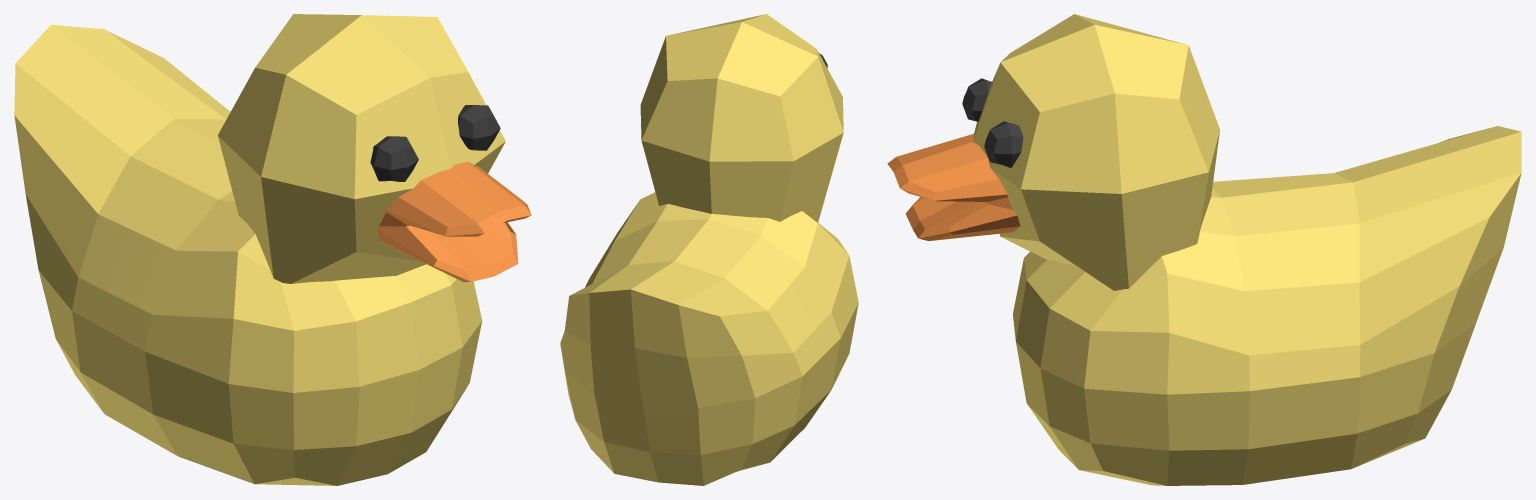
The model's file is Duck_231109.glb.
The picture shows the model from 3 angles, left to right: view 1: azimuth 30°, elevation 25°; view 2: azimuth 150°, elevation 25°; view 3: azimuth 270°, elevation 25°; orthographic projection. The views are drawn at different scales.
Parts seen in each view (by area): view 1: Duck; view 2: Duck; view 3: Duck.
Part boxes in pixels (left/top/right/bottom): Duck: left=14, top=14, right=531, bottom=485; Duck: left=560, top=14, right=858, bottom=485; Duck: left=887, top=14, right=1521, bottom=485.
Bounding box in the file's own units: 0.3007 × 0.4336 × 0.5594.
1 material, 1 textured.
